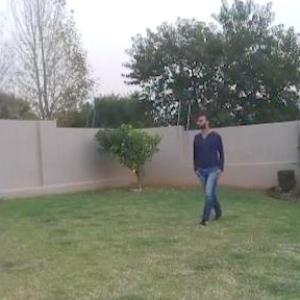follow: (186, 106, 230, 235)
